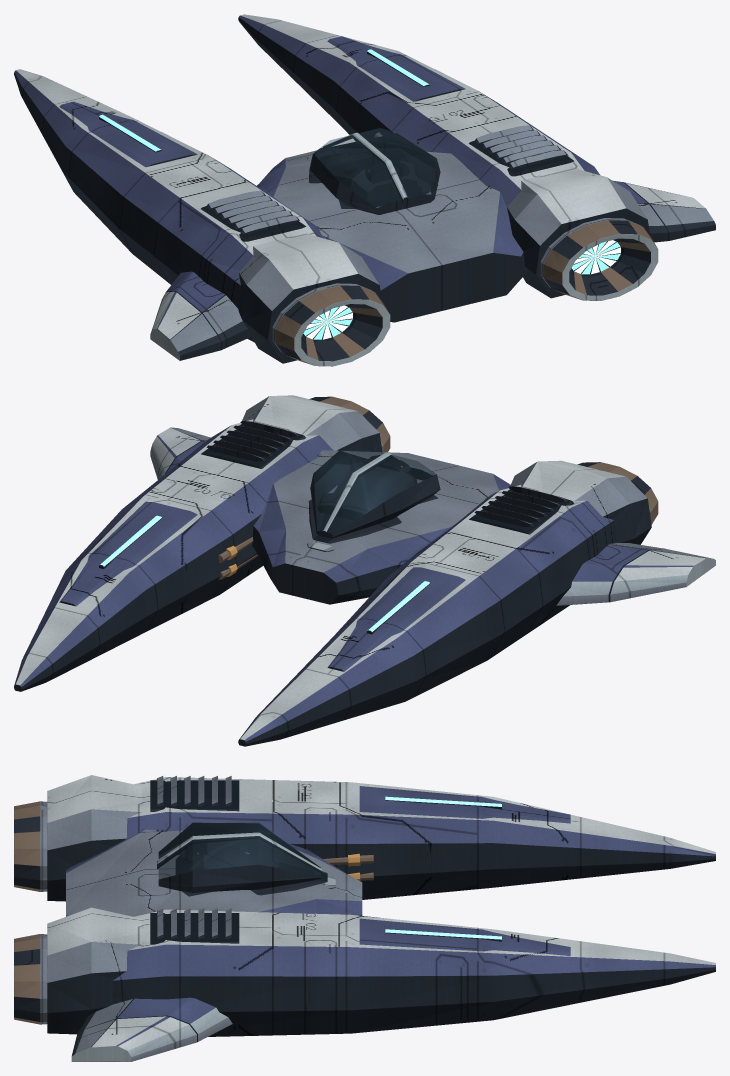
Rendered from gemini.glb.
3 views of the same model, one above another, from view 1: azimuth 30°, elevation 25°; view 2: azimuth 150°, elevation 25°; view 3: azimuth 270°, elevation 25° (orthographic).
Parts seen in each view (by area): view 1: Airframe; view 2: Airframe; view 3: Airframe.
Boxes of the visible parts, left/top/right/bottom form: Airframe: left=14, top=14, right=715, bottom=366; Airframe: left=14, top=395, right=715, bottom=746; Airframe: left=14, top=775, right=715, bottom=1061.
Bounding box in the file's own units: 2.2 × 0.4461 × 2.46.
13 materials, 8 textured.
